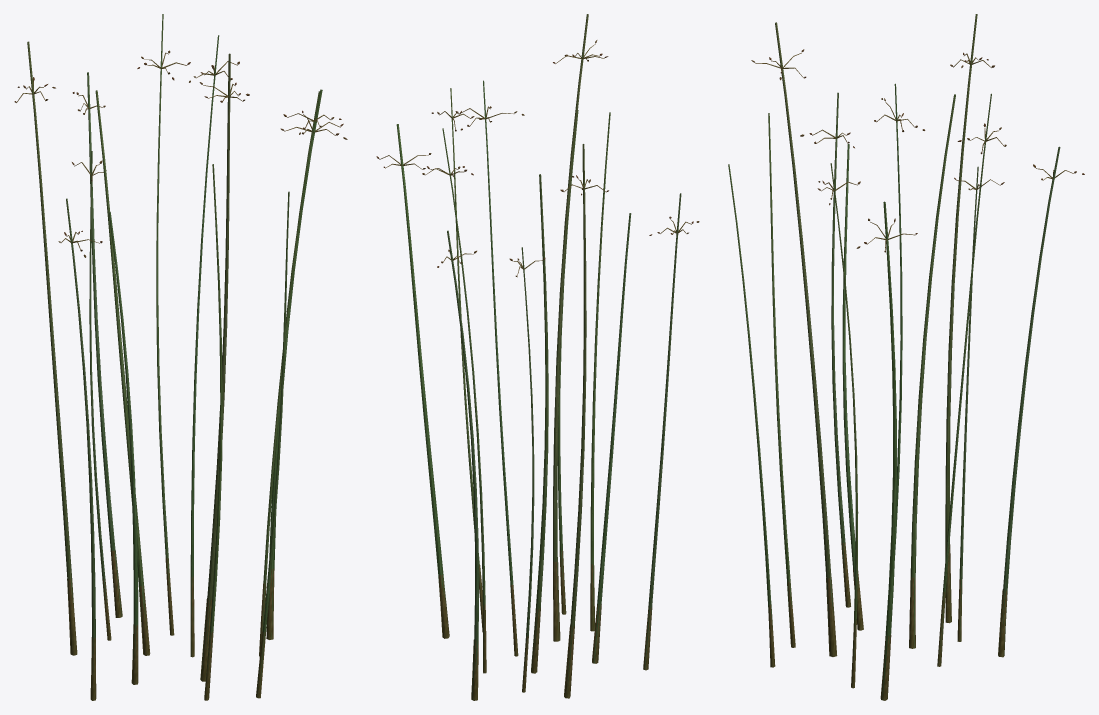
The model's file is lakeside_bulrush.glb.
3 renders of one model, left to right at view 1: azimuth 30°, elevation 25°; view 2: azimuth 150°, elevation 25°; view 3: azimuth 270°, elevation 25°, orthographic. The views are drawn at different scales.
Parts seen in each view (by area): view 1: Softstem bulrush; view 2: Softstem bulrush; view 3: Softstem bulrush.
Boxes of the visible parts, x1,y1,x2,y2 form: Softstem bulrush: (14, 14, 347, 700); Softstem bulrush: (376, 14, 699, 700); Softstem bulrush: (728, 14, 1084, 700).
Bounding box in the file's own units: 0.7417 × 1.48 × 0.7604.
1 material, 1 textured.
